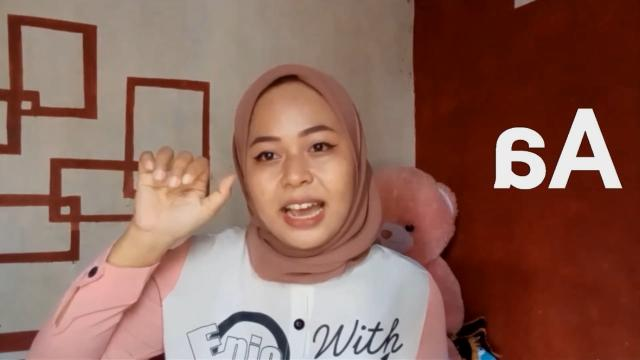A: (126, 144, 237, 241)
